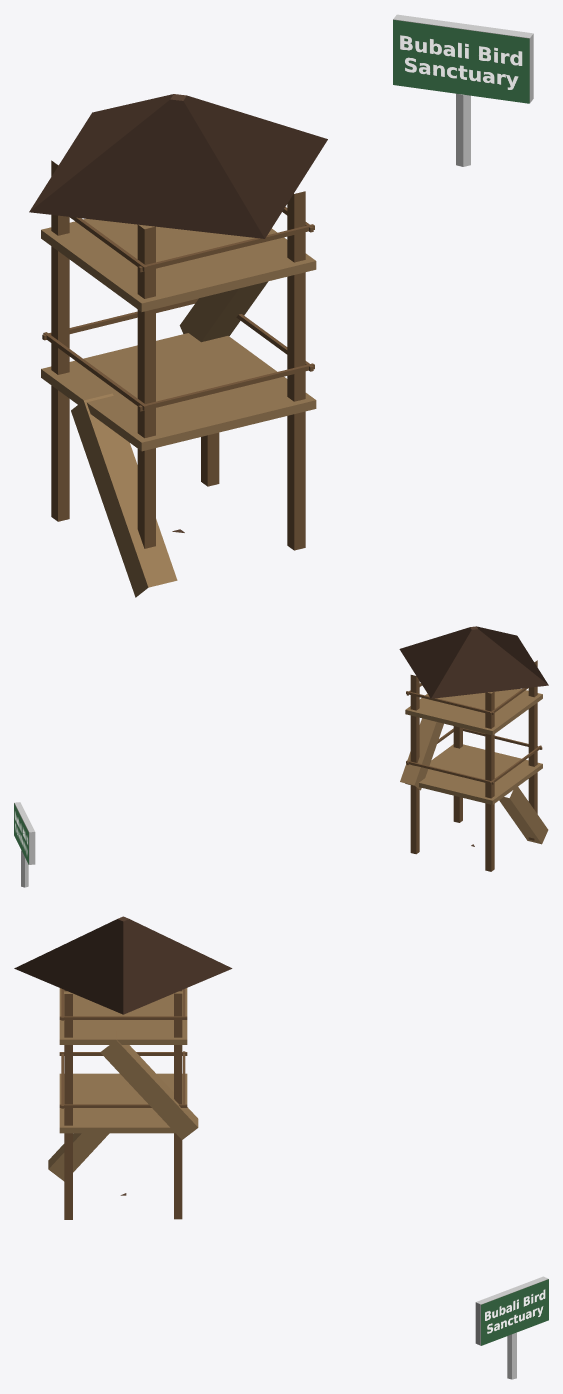
File: bubalitower.glb
The picture shows the model from 3 angles, top to bottom: view 1: azimuth 30°, elevation 25°; view 2: azimuth 150°, elevation 25°; view 3: azimuth 270°, elevation 25°; orthographic projection. The views are drawn at different scales.
Visible parts, largest first — view 1: bubalitower_lod0; view 2: bubalitower_lod0; view 3: bubalitower_lod0.
Part boxes in pixels (x1,y1,x2,y2): bubalitower_lod0: [29, 14, 533, 597]; bubalitower_lod0: [14, 626, 548, 887]; bubalitower_lod0: [14, 916, 548, 1379].
Size of what is drawn, in the model's own units: 18.95 by 10.22 by 17.6.
Materials: 6 (1 with a texture image).
